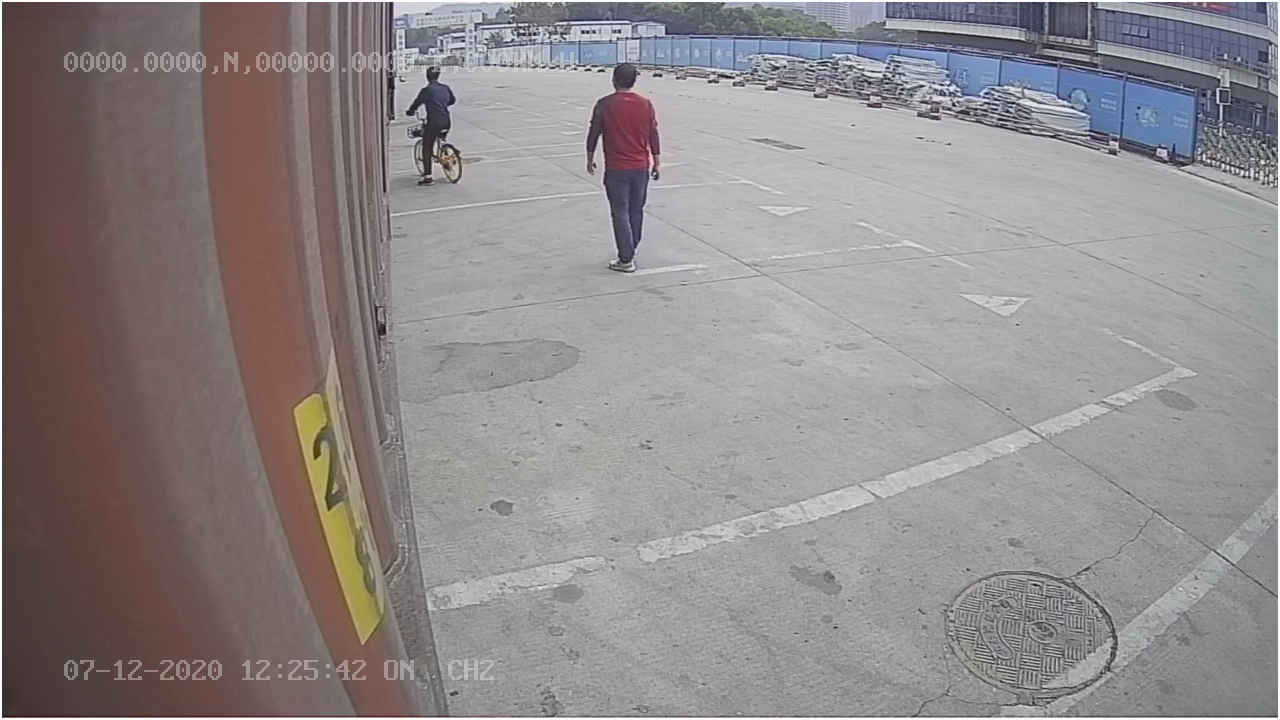person: (579, 56, 664, 273)
